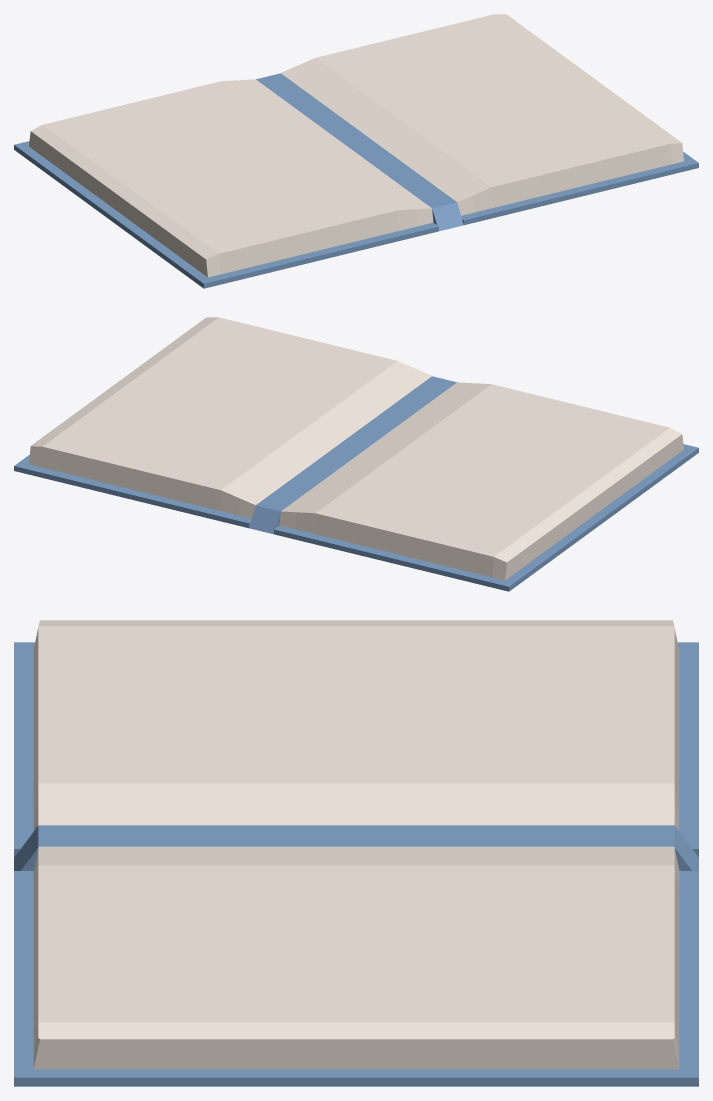
File: Book.fbx
The picture shows the model from 3 angles, top to bottom: view 1: azimuth 30°, elevation 25°; view 2: azimuth 150°, elevation 25°; view 3: azimuth 270°, elevation 25°; orthographic projection. The views are drawn at different scales.
Parts seen in each view (by area): view 1: PageBlock_L, Page_Flip, Cover_L, Spine, PageBlock_R, Cover_R; view 2: PageBlock_L, Page_Flip, Cover_L, Spine, PageBlock_R, Cover_R; view 3: PageBlock_L, Page_Flip, PageBlock_R, Cover_R, Spine, Cover_L.
Boxes of the visible parts, bbox=[...] form: PageBlock_L: bbox=[29, 79, 433, 277]; Page_Flip: bbox=[281, 14, 682, 201]; Cover_L: bbox=[14, 141, 438, 288]; Spine: bbox=[256, 73, 463, 231]; PageBlock_R: bbox=[281, 73, 683, 215]; Cover_R: bbox=[461, 152, 698, 225]; PageBlock_L: bbox=[279, 382, 683, 580]; Page_Flip: bbox=[30, 317, 431, 504]; Cover_L: bbox=[274, 444, 698, 591]; Spine: bbox=[249, 376, 456, 534]; PageBlock_R: bbox=[29, 376, 431, 518]; Cover_R: bbox=[14, 455, 251, 528]; PageBlock_L: bbox=[33, 620, 679, 830]; Page_Flip: bbox=[38, 846, 674, 1038]; PageBlock_R: bbox=[33, 849, 679, 1069]; Cover_R: bbox=[14, 871, 698, 1086]; Spine: bbox=[14, 825, 698, 870]; Cover_L: bbox=[14, 642, 698, 857].
Size of the model in its own units: 0.316 by 0.0152 by 0.21.
